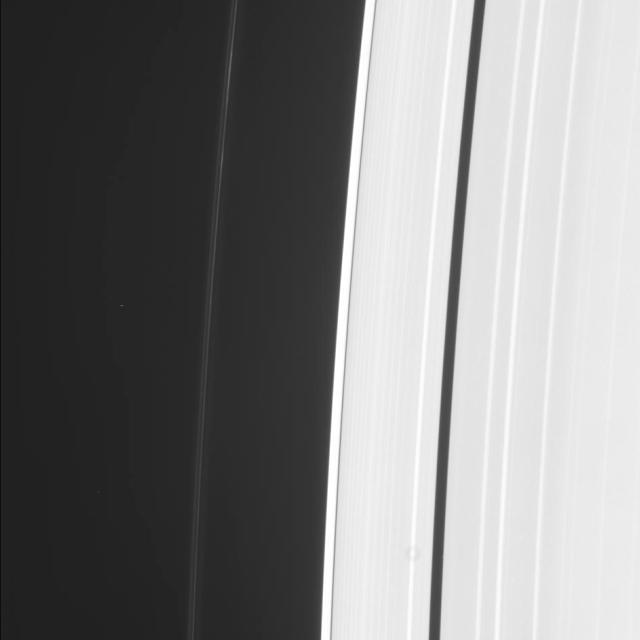Saturn: (185, 0, 640, 640)
